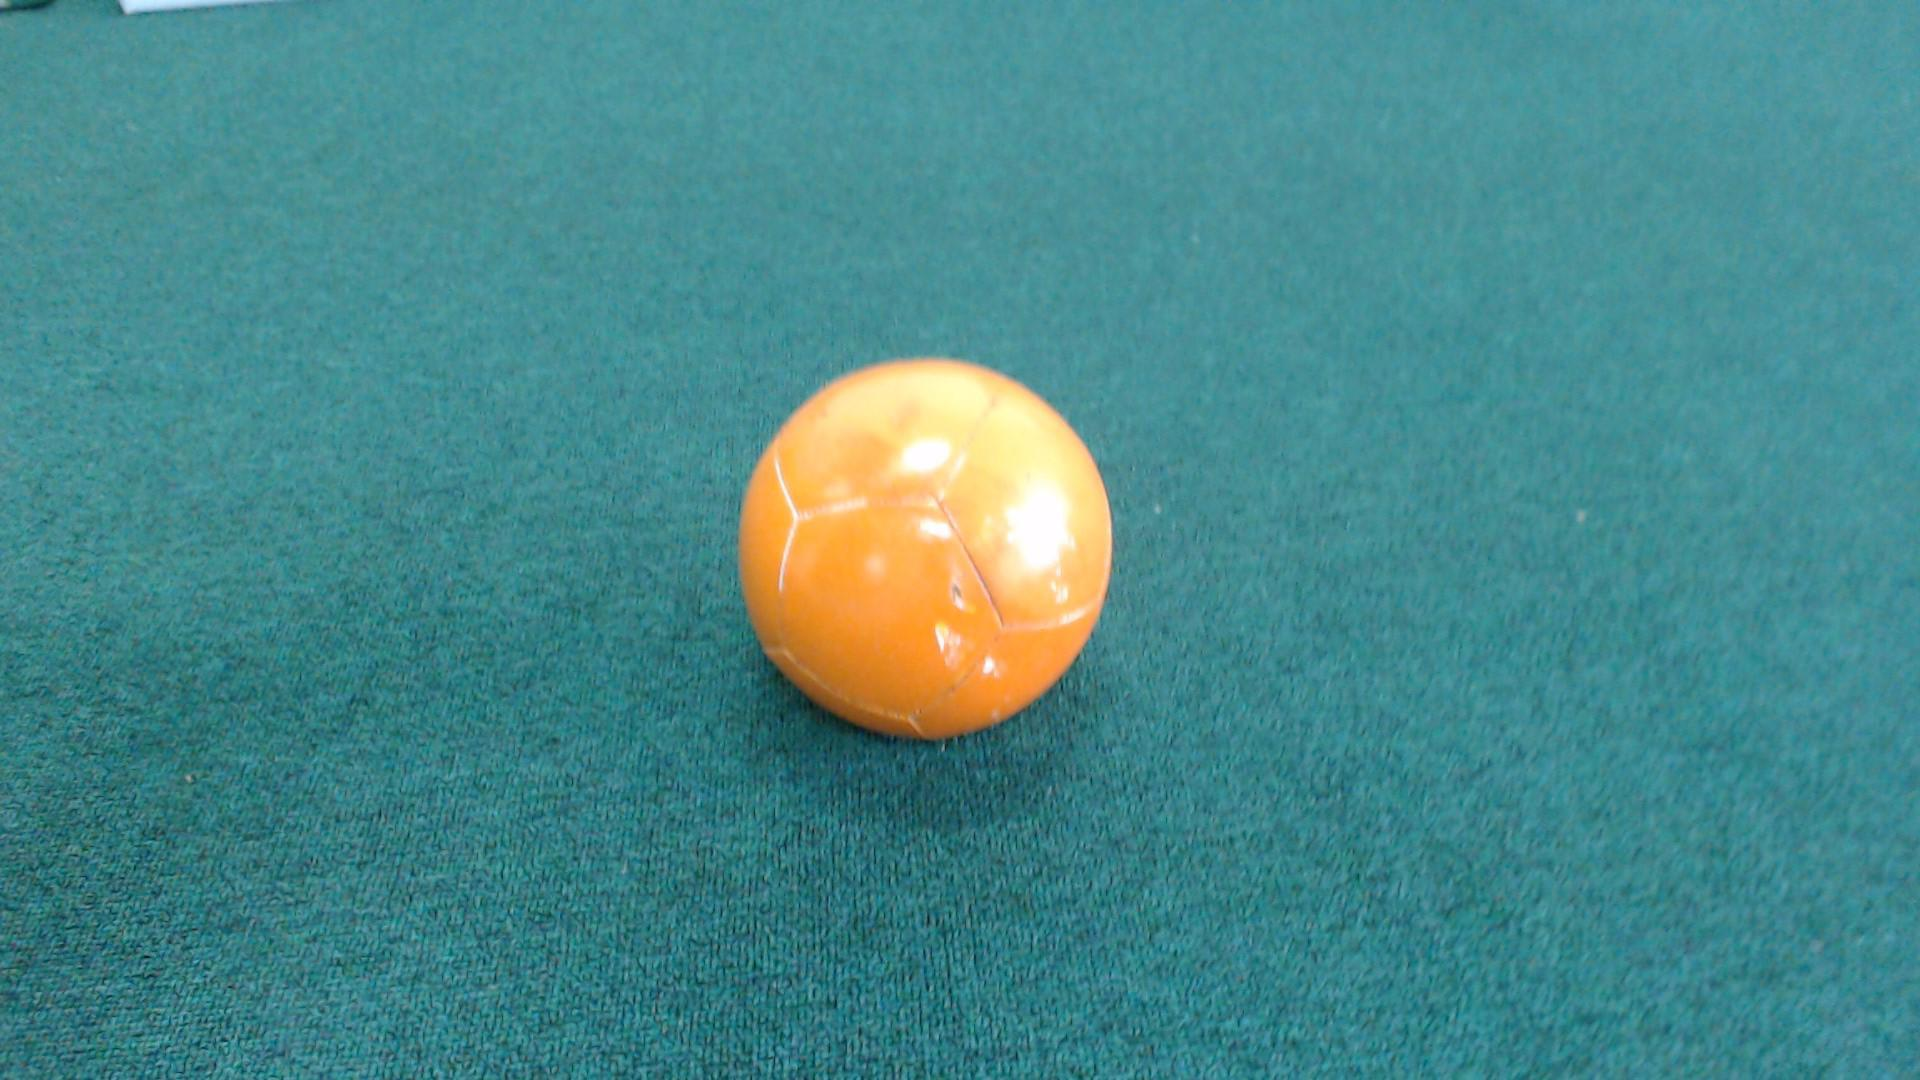bola: (698, 351, 1130, 753)
